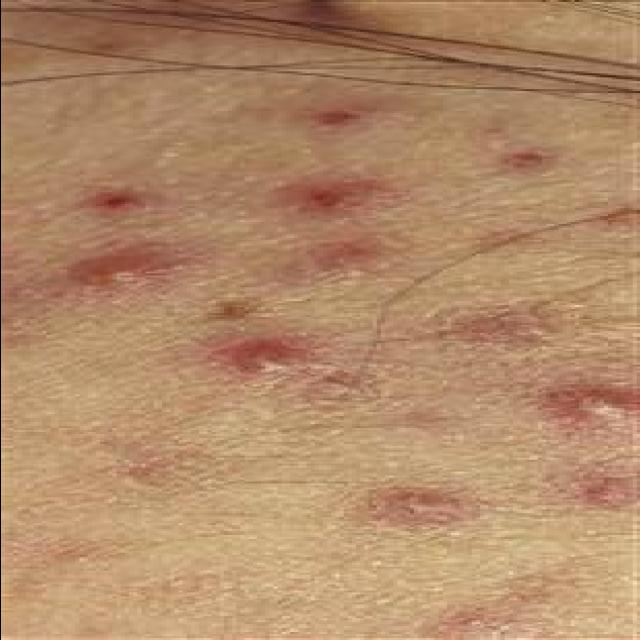Acne: (61, 238, 217, 294), (362, 482, 496, 531), (545, 370, 640, 436), (272, 172, 408, 218), (216, 329, 333, 382), (76, 182, 178, 226), (298, 235, 394, 279), (573, 462, 640, 521), (298, 98, 388, 138), (484, 144, 572, 182)
